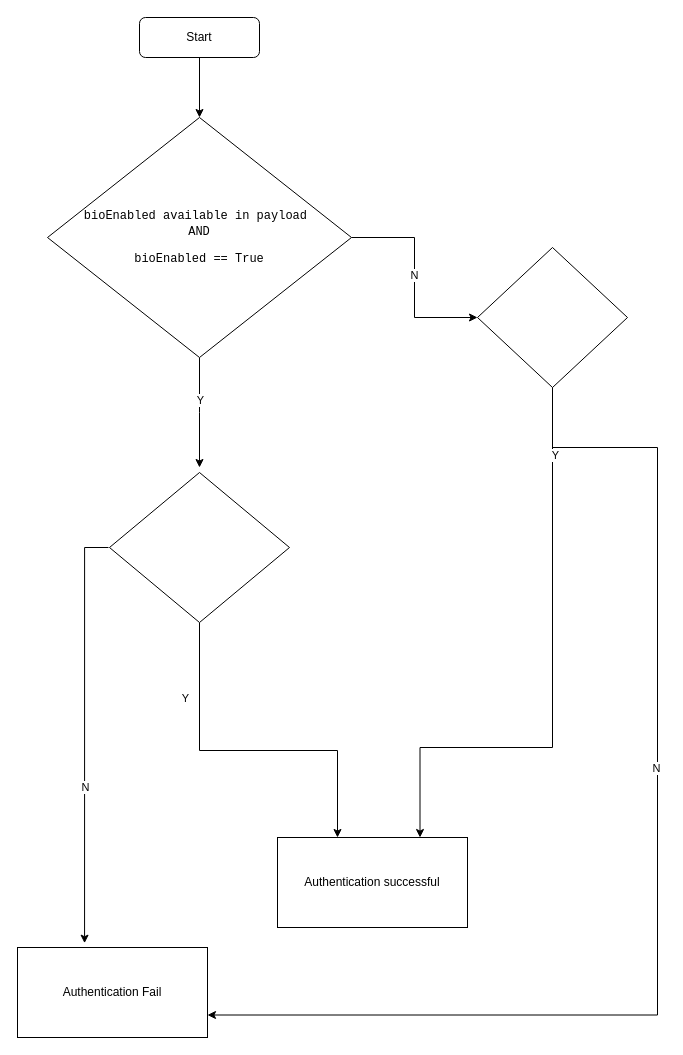
Some shapes in this 683 by 1055 pixel diagram are drawn without their labels. The box of each missing label's shape, as (x1, y1, x2, y2) in pixels:
Validate bioHashKey: (108, 472, 290, 622)
Validate Mpin: (476, 246, 628, 388)
